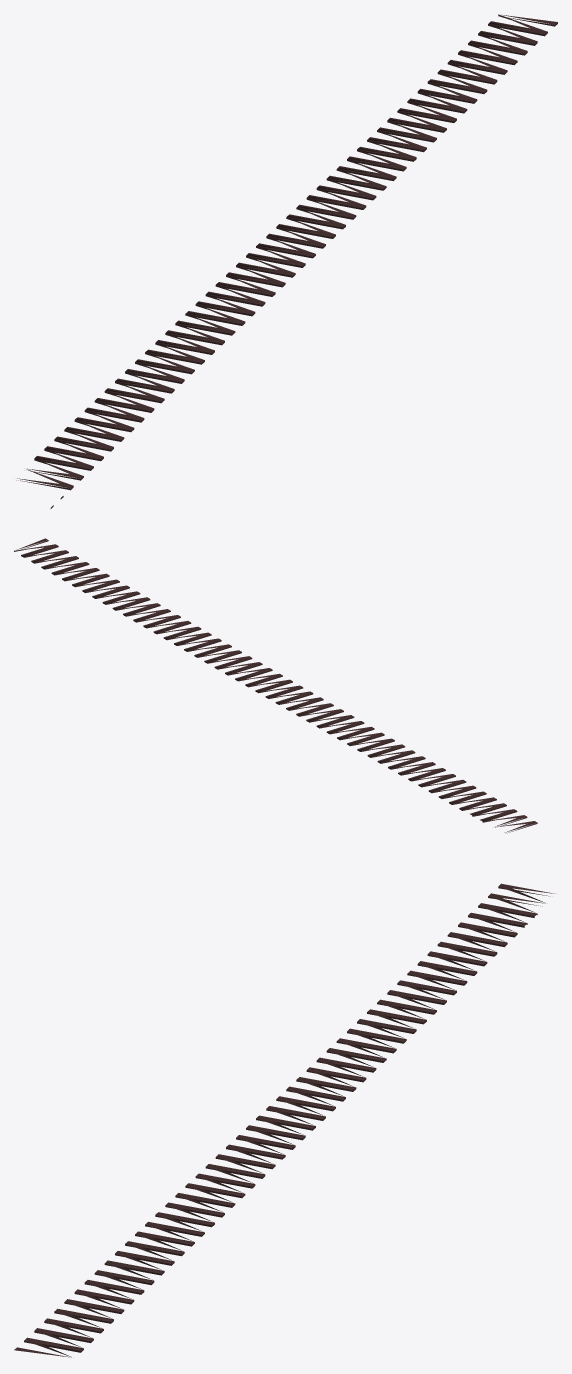
The picture shows the model from 3 angles, top to bottom: view 1: azimuth 90°, elevation 25°; view 2: azimuth 150°, elevation 25°; view 3: azimuth 270°, elevation 25°; orthographic projection. The views are drawn at different scales.
Size of the model in its own units: 40.18 by 0.064 by 18.72.
